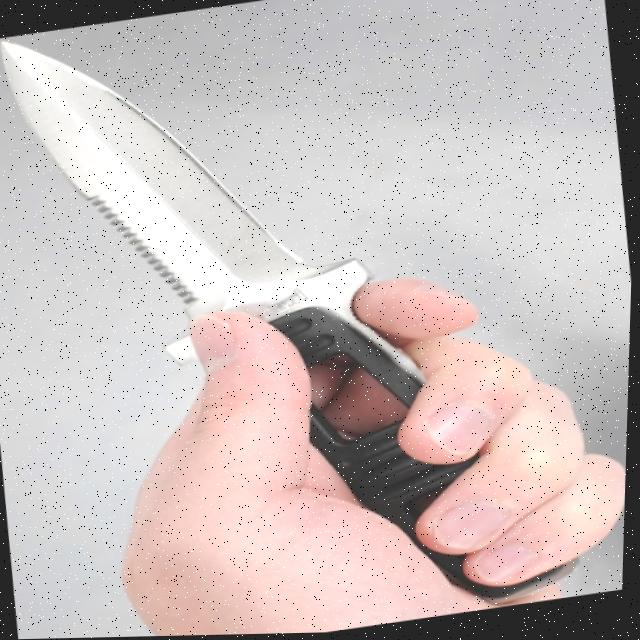knife: (0, 0, 605, 640)
